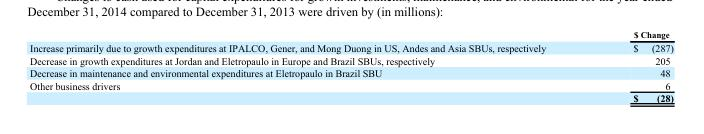table: (29, 29, 672, 103)
table column: (29, 29, 588, 103), (588, 29, 672, 103)
table column header: (29, 29, 672, 40)
table row: (29, 40, 672, 53), (29, 53, 672, 66), (29, 66, 672, 79), (29, 79, 672, 91), (29, 91, 672, 103), (29, 29, 672, 40)
